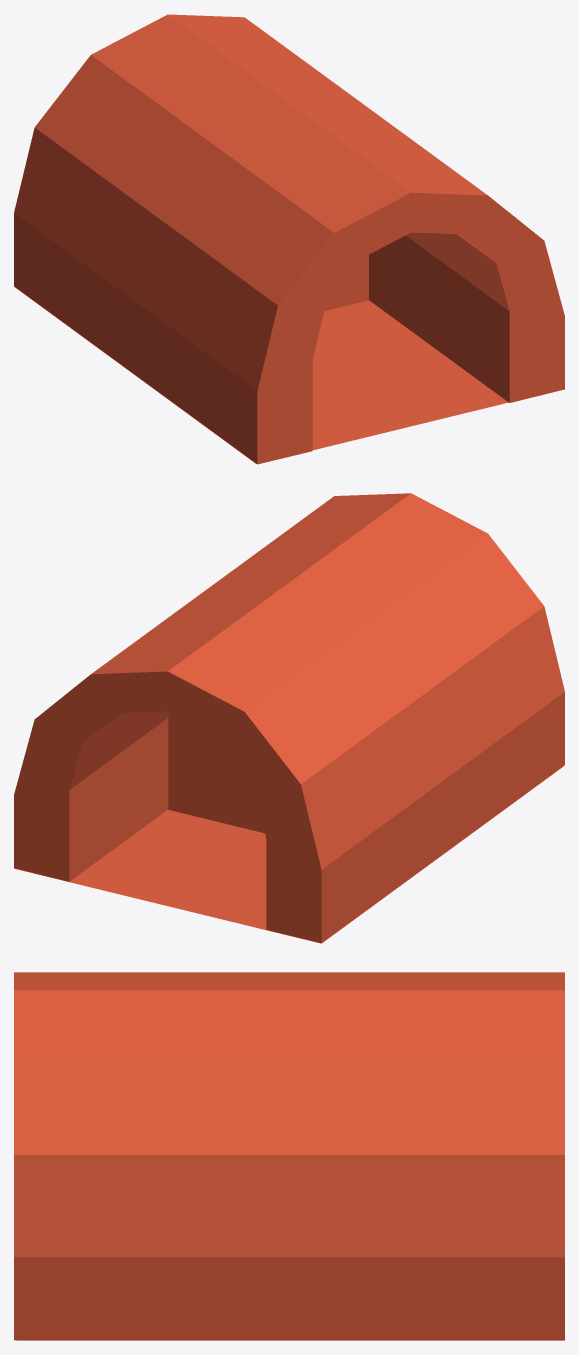
The model's file is Entrada.fbx.
3 renders of one model, top to bottom at view 1: azimuth 30°, elevation 25°; view 2: azimuth 150°, elevation 25°; view 3: azimuth 270°, elevation 25°, orthographic. The views are drawn at different scales.
Visible parts, largest first — view 1: cueva, cueva.001, cueva.002; view 2: cueva, cueva.001, cueva.002; view 3: cueva, cueva.001.
Part boxes in pixels (x1=…): cueva: x1=14, y1=14, x2=564, y2=464; cueva.001: x1=14, y1=286, x2=508, y2=463; cueva.002: x1=324, y1=255, x2=368, y2=310; cueva: x1=14, y1=493, x2=564, y2=943; cueva.001: x1=14, y1=766, x2=563, y2=943; cueva.002: x1=168, y1=712, x2=264, y2=833; cueva: x1=14, y1=972, x2=564, y2=1340; cueva.001: x1=16, y1=1340, x2=564, y2=1340.
Size of the model in its own units: 1424 by 1045 by 1952.
